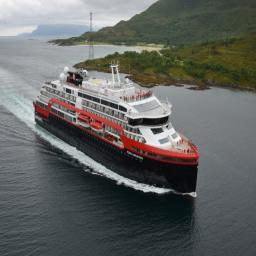cruises: (33, 61, 201, 202)
